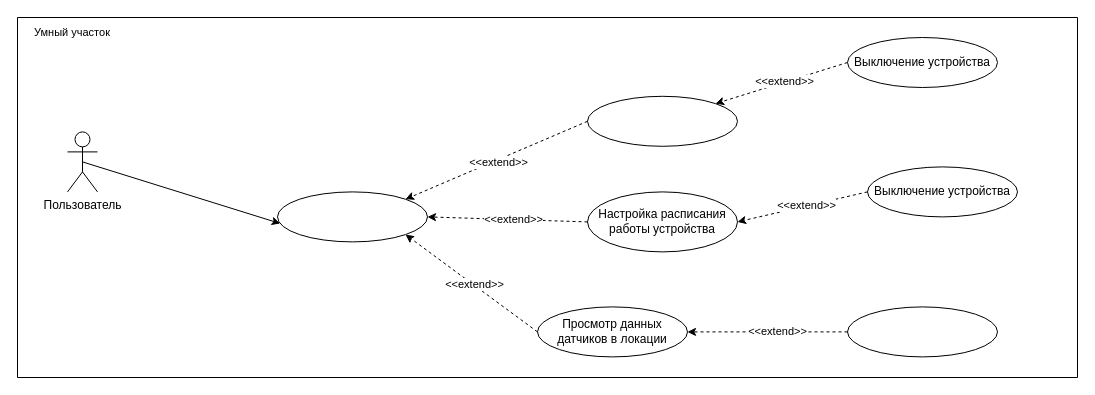
Image size: 1095x395. Some labels were removed from this diagram. Here are the shapes that lost their labels. From the top down, the centre of each, then its label:
the point at 662,120: Включение устройства
the point at 352,216: Просмотр доступных локаций
the point at 922,331: Просмотр дополнительных параметров
